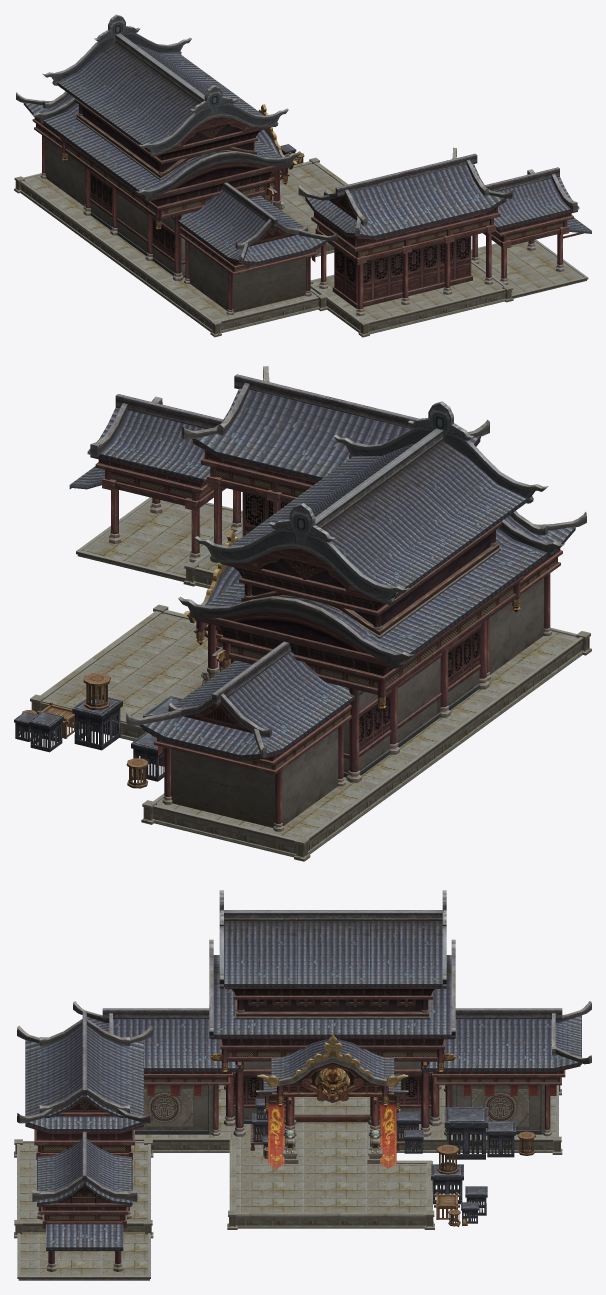
Rendered from build_01_04.FBX.
The picture shows the model from 3 angles, top to bottom: view 1: azimuth 30°, elevation 25°; view 2: azimuth 150°, elevation 25°; view 3: azimuth 270°, elevation 25°; orthographic projection. The views are drawn at different scales.
Parts seen in each view (by area): view 1: segment_46, segment_48, segment_47; view 2: segment_46, segment_48, segment_47; view 3: segment_46, segment_48, segment_47.
Boxes of the visible parts, bbox=[...] form: segment_46: bbox=[16, 14, 591, 315]; segment_48: bbox=[14, 157, 588, 337]; segment_47: bbox=[197, 124, 315, 261]; segment_46: bbox=[69, 366, 586, 831]; segment_48: bbox=[30, 497, 591, 861]; segment_47: bbox=[14, 558, 326, 788]; segment_46: bbox=[17, 890, 591, 1271]; segment_48: bbox=[14, 1085, 562, 1280]; segment_47: bbox=[78, 1085, 556, 1226].
Size of the model in its own units: 920 by 458 by 1043.
